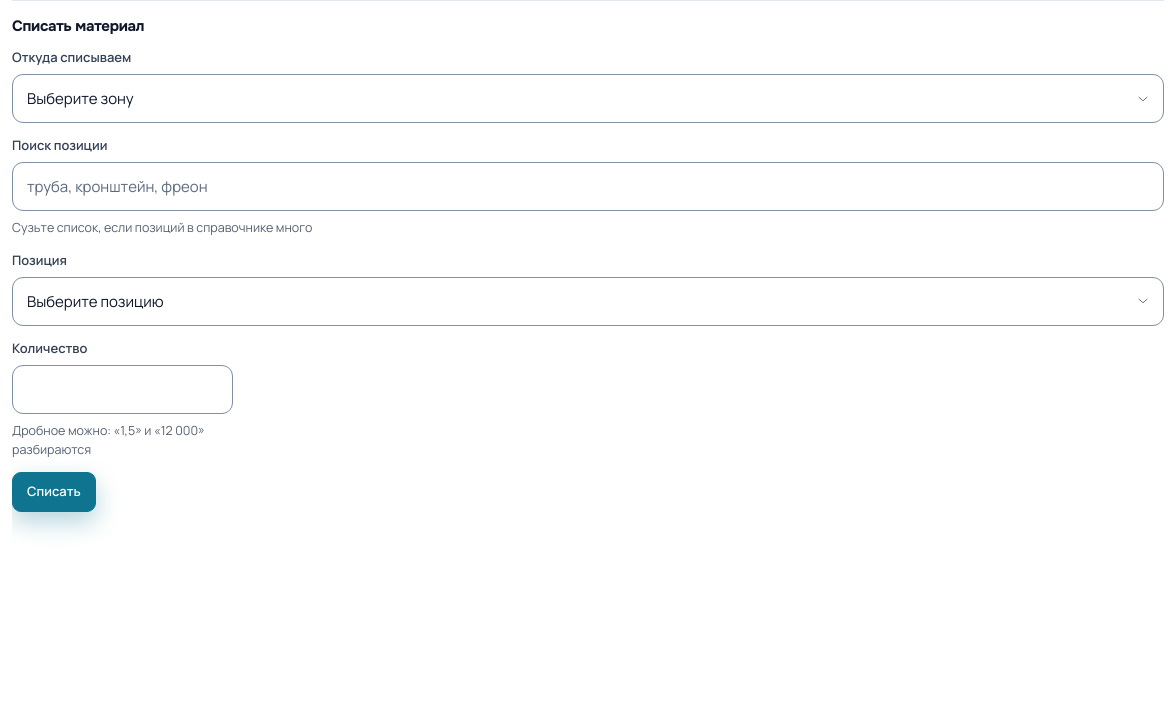
it: Списание материала на наряд › отказ без имени поля показывается сообщением
Select "Газель" in the dropdown labelled "Откуда списываем": (588, 99) [12,74,1164,123]
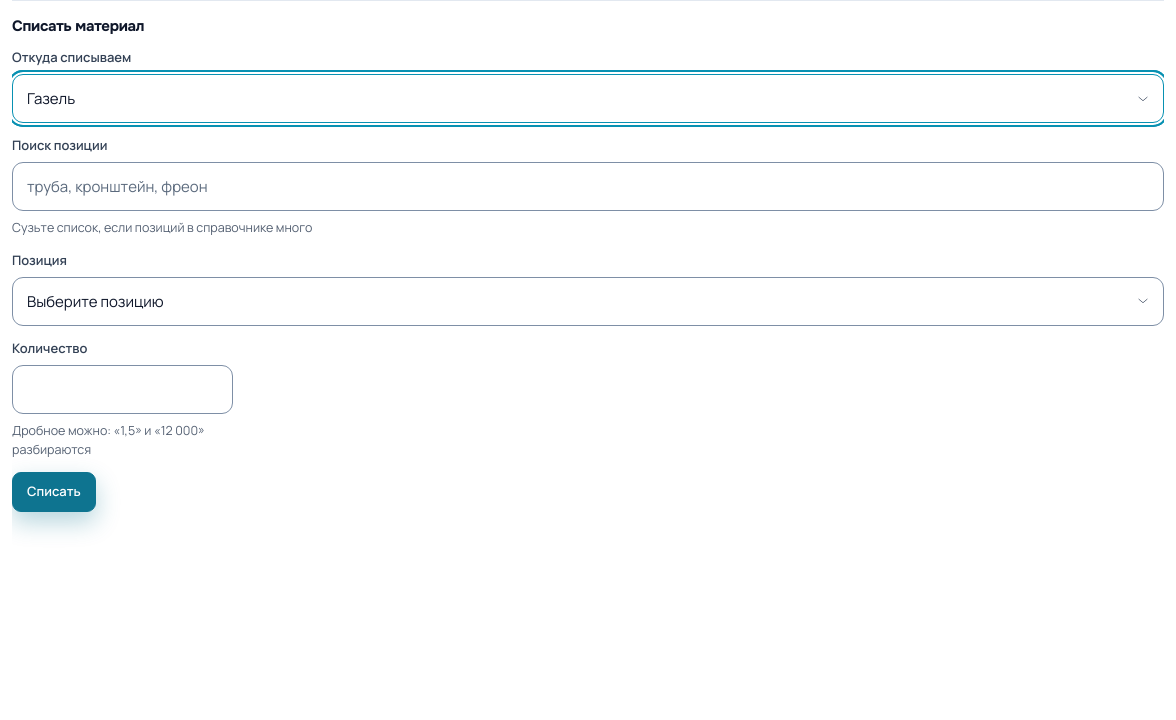
Select "Труба медная 1/4″ — 12 м" in the dropdown labelled "Позиция": (588, 301) [12,277,1164,326]
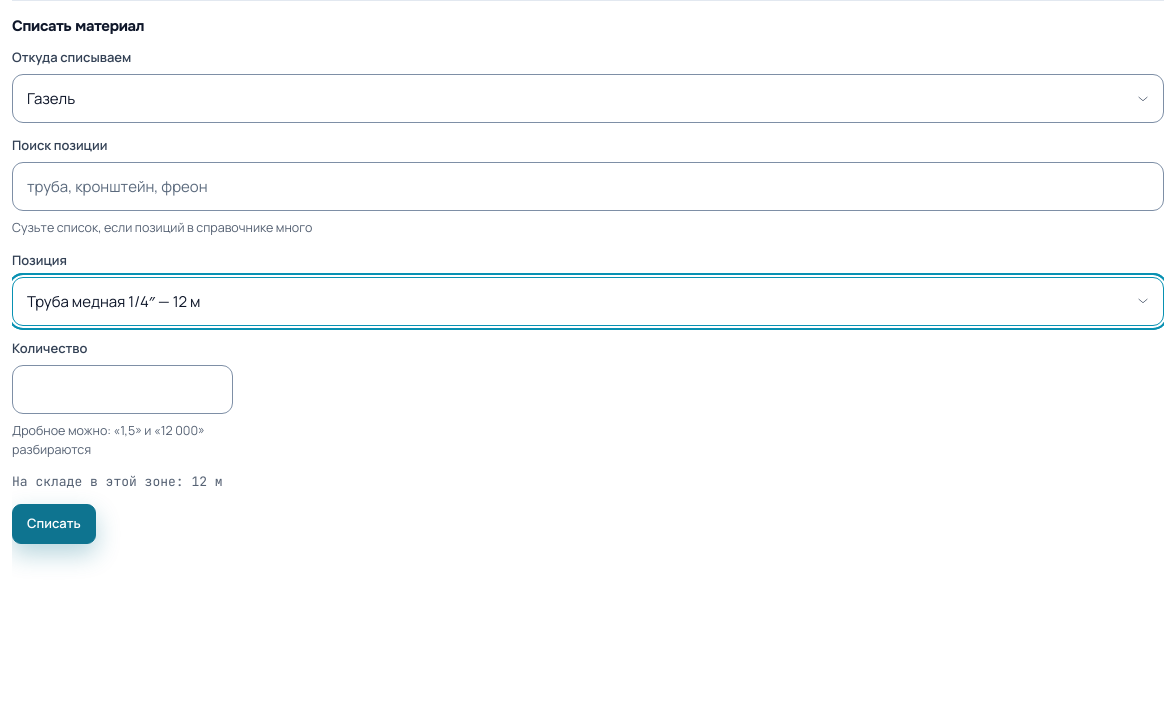
In the field labelled "Количество": (122, 389) [12,365,233,414], type "4"
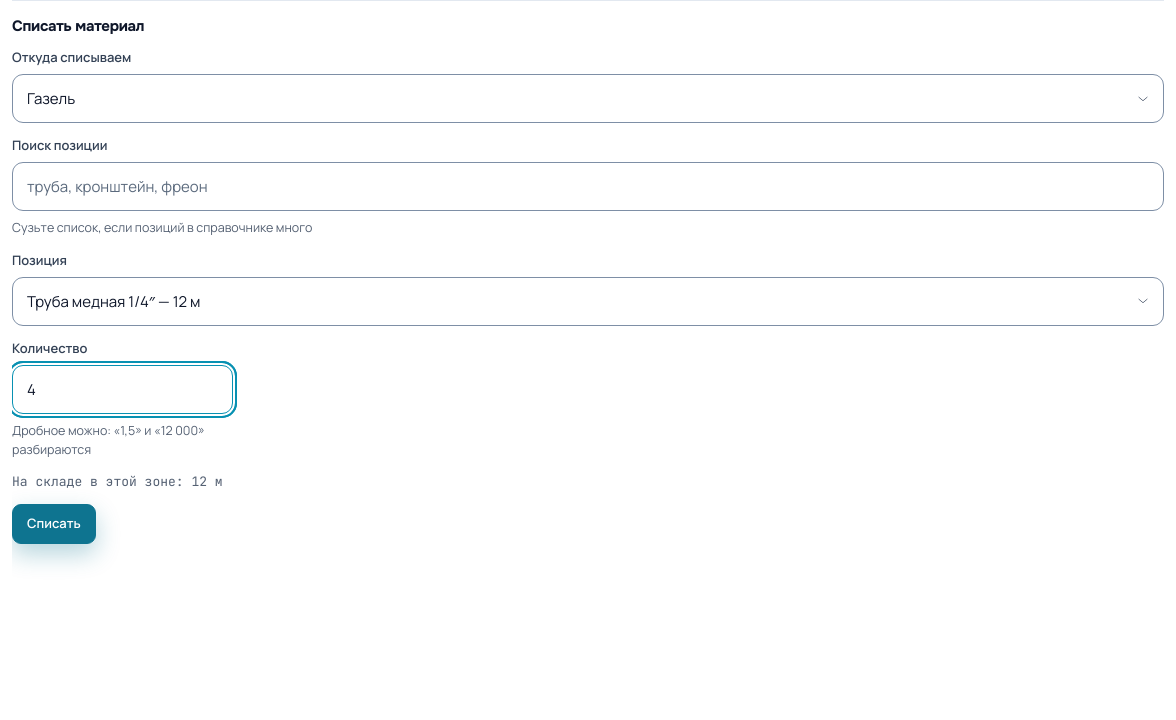
Click the button "Списать": (54, 524) [12,504,96,544]
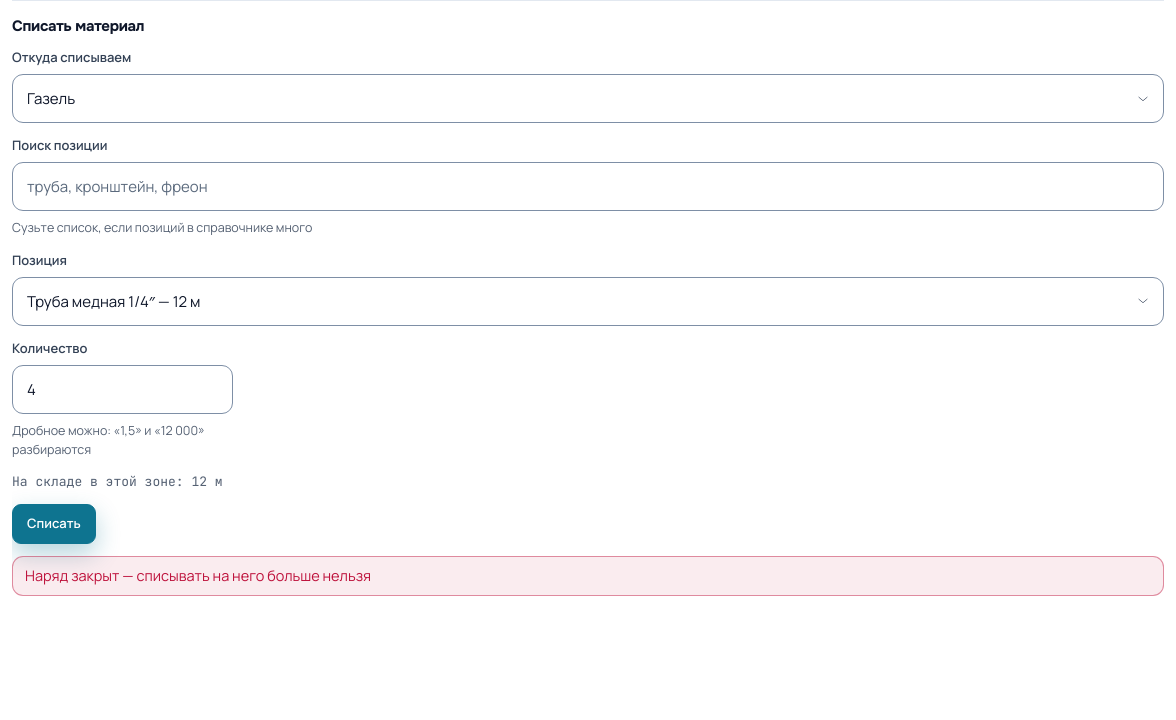
Check: the message reads "Наряд закрыт — списывать на него больше нельзя", box [25,566,371,585]
